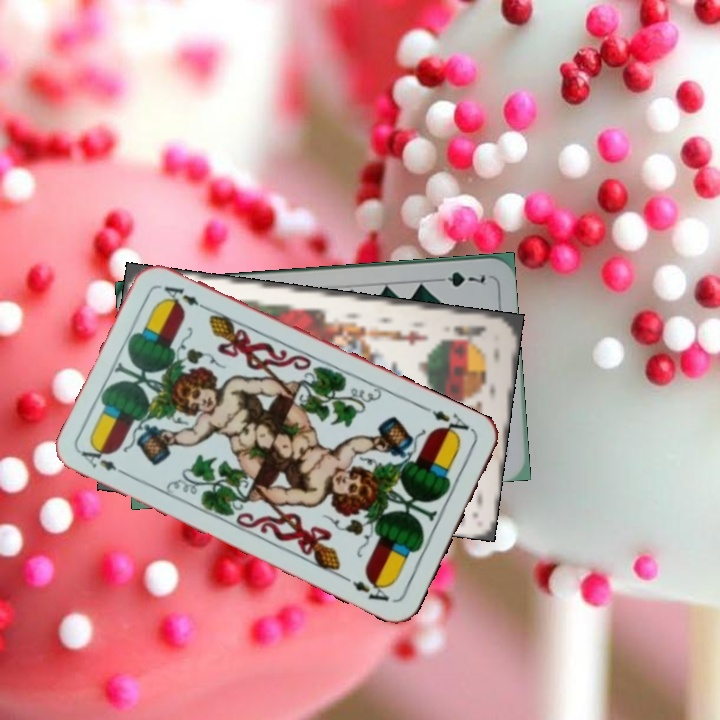EA: (420, 402, 476, 442), (76, 441, 132, 479)
G7: (430, 267, 490, 289)
SK: (450, 321, 489, 341)
